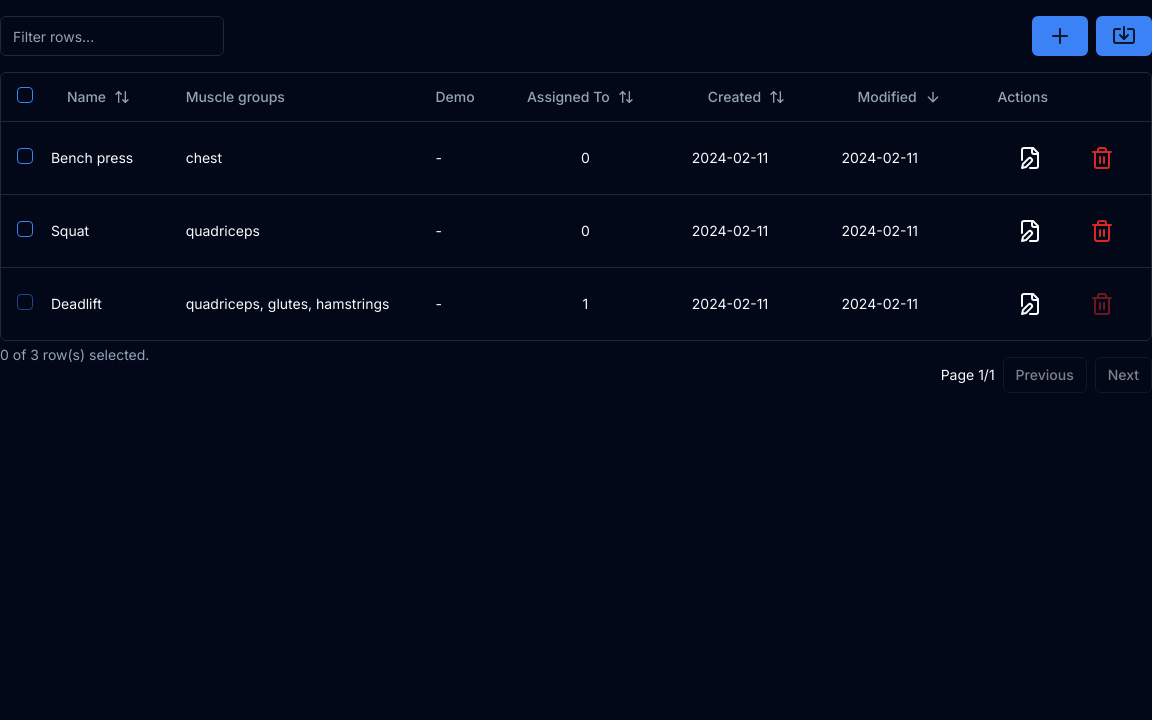
Test: Exercise Table › opens form dialog if add or edit exercise is clicked, can close dialog
Click the button named "edit exercise" in the row of "Bench press" at (1030, 158), box [1002,138,1058,178]
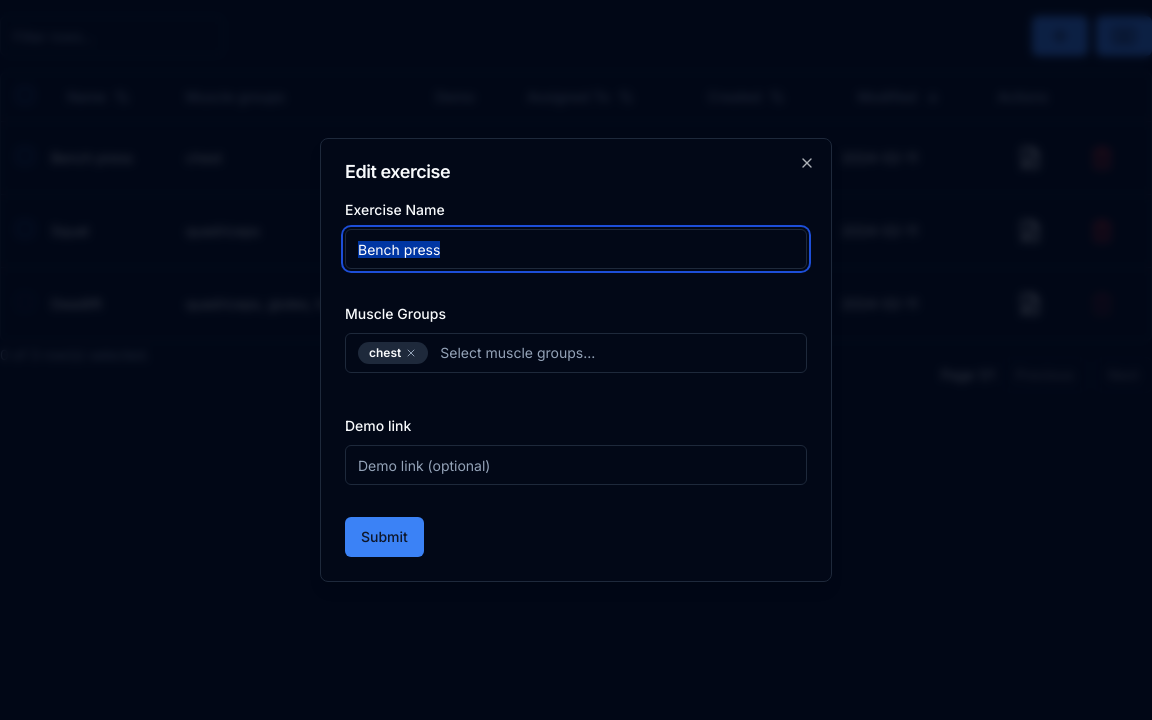
Result: the dialog is shown at [320,138,832,582]
Click the 1st button named "Close" at (807, 163), box [799,155,815,171]
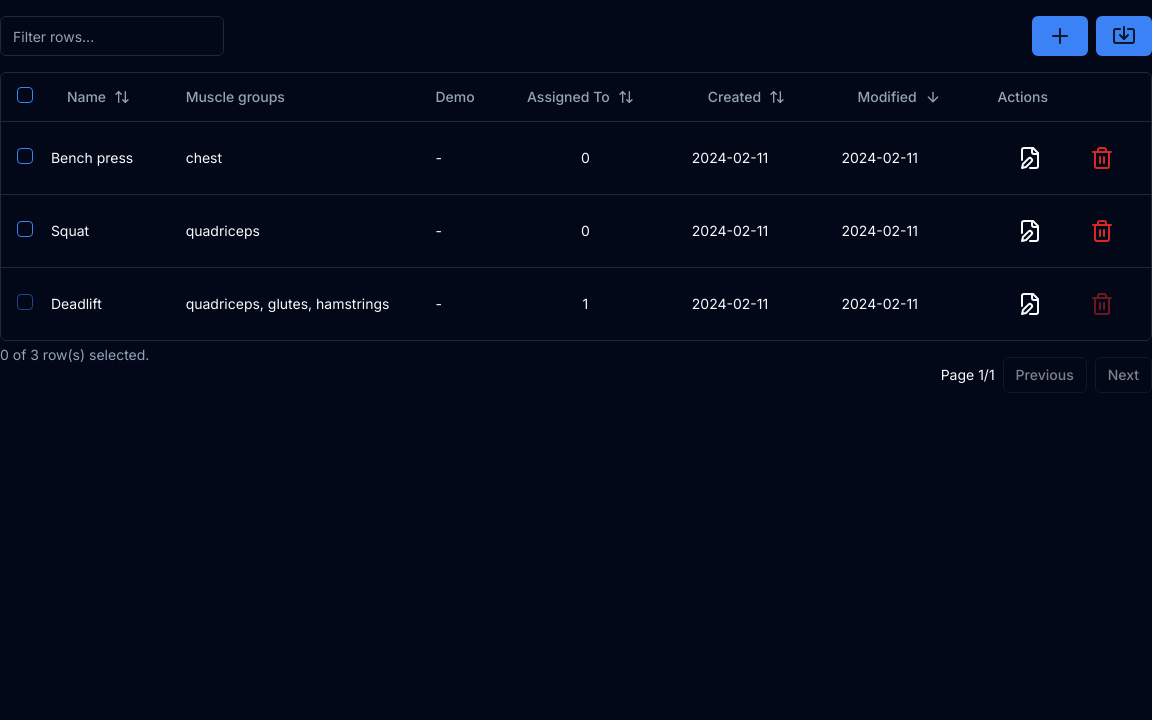
Result: the dialog is gone
Click the button named "add exercise" at (1060, 36), box [1032,16,1088,56]
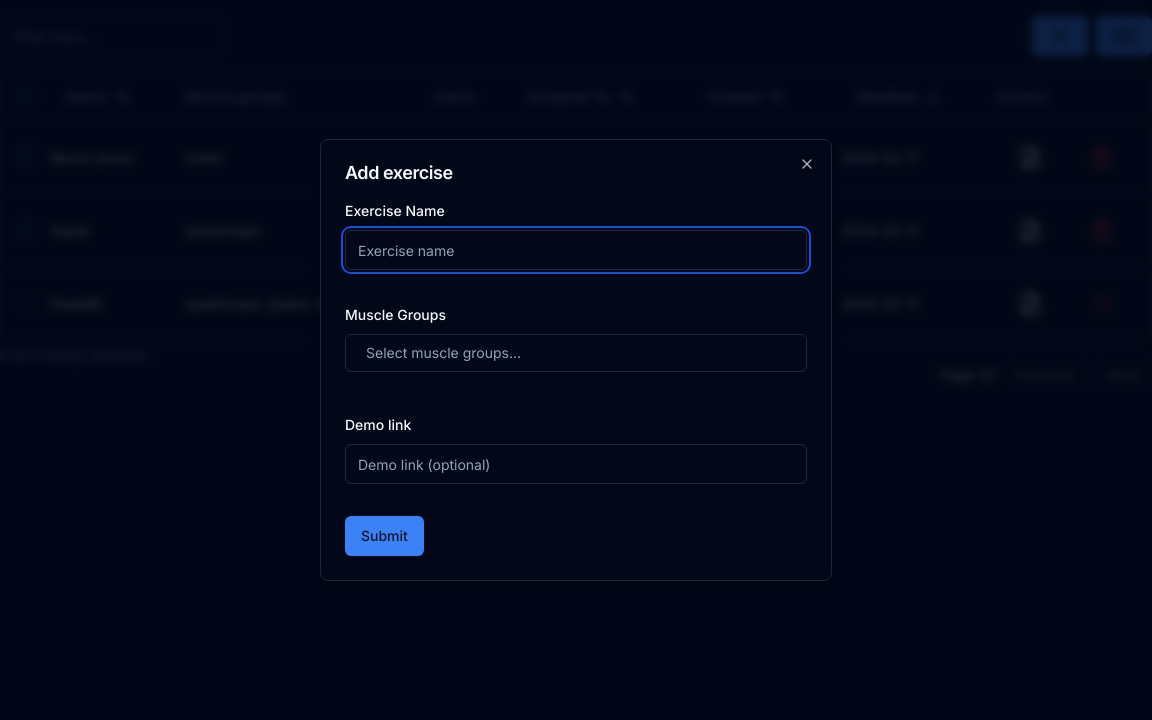
Result: the dialog is shown at [320,139,832,581]
Click the button named "Close" at (807, 164), box [799,156,815,172]
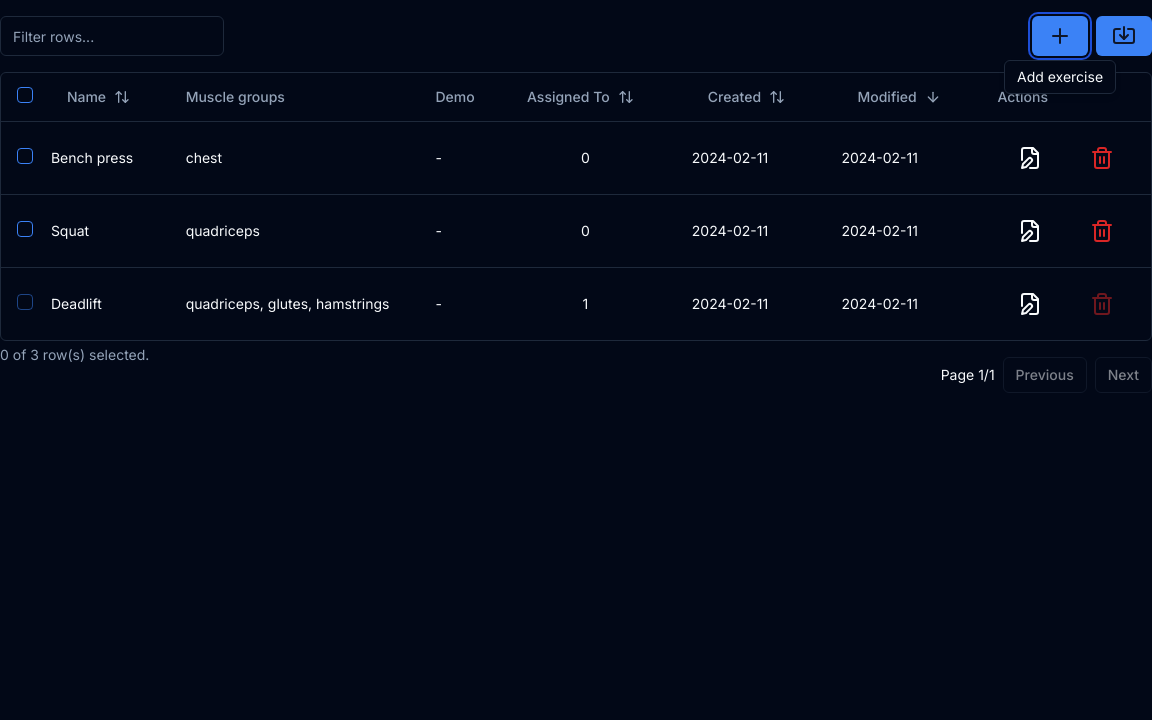
Result: the dialog is gone
